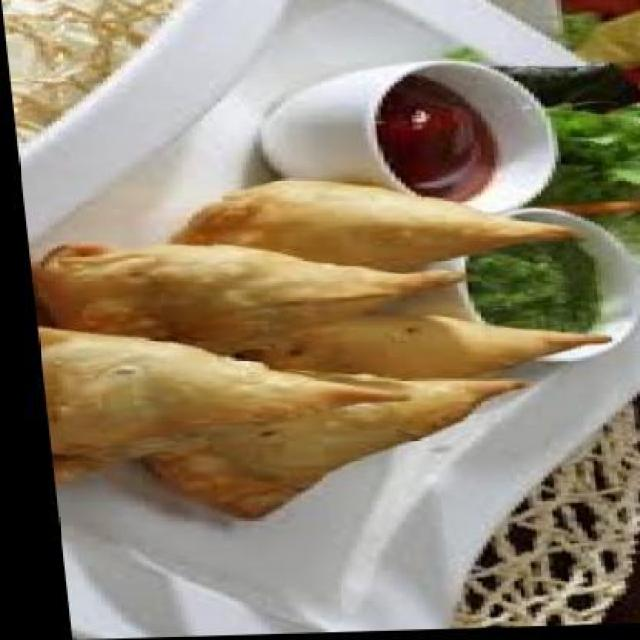samosa: (115, 365, 531, 523), (29, 318, 408, 484), (22, 232, 464, 360), (158, 176, 570, 282), (206, 308, 606, 386)
